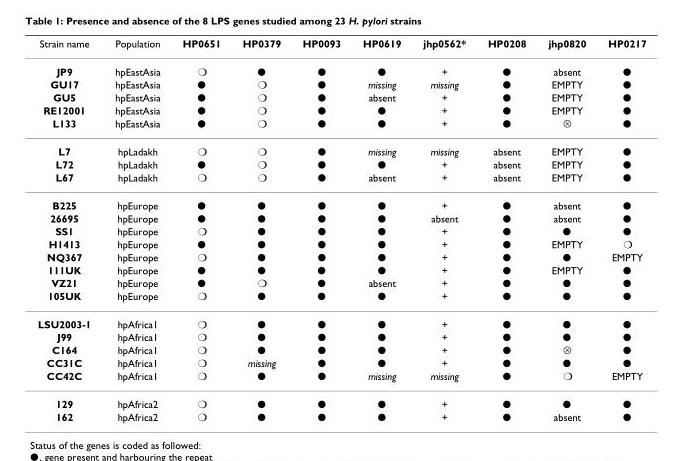table: (36, 36, 645, 422)
table column: (102, 36, 170, 422), (36, 36, 102, 422), (411, 36, 476, 422), (230, 36, 291, 422), (170, 36, 230, 422), (291, 36, 351, 422), (351, 36, 411, 422), (476, 36, 536, 422), (536, 36, 596, 422), (596, 36, 645, 422)
table column header: (36, 36, 645, 56)
table row: (36, 56, 645, 77), (36, 136, 645, 157), (36, 190, 645, 211), (36, 288, 645, 309), (36, 309, 645, 330), (36, 368, 645, 389), (36, 36, 645, 56), (36, 116, 645, 136), (36, 170, 645, 190), (36, 389, 645, 409), (36, 77, 645, 90), (36, 90, 645, 103), (36, 103, 645, 116), (36, 157, 645, 170), (36, 211, 645, 224), (36, 224, 645, 237), (36, 237, 645, 250), (36, 250, 645, 263), (36, 263, 645, 276), (36, 342, 645, 355), (36, 355, 645, 368), (36, 409, 645, 422), (36, 276, 645, 288), (36, 330, 645, 342)
